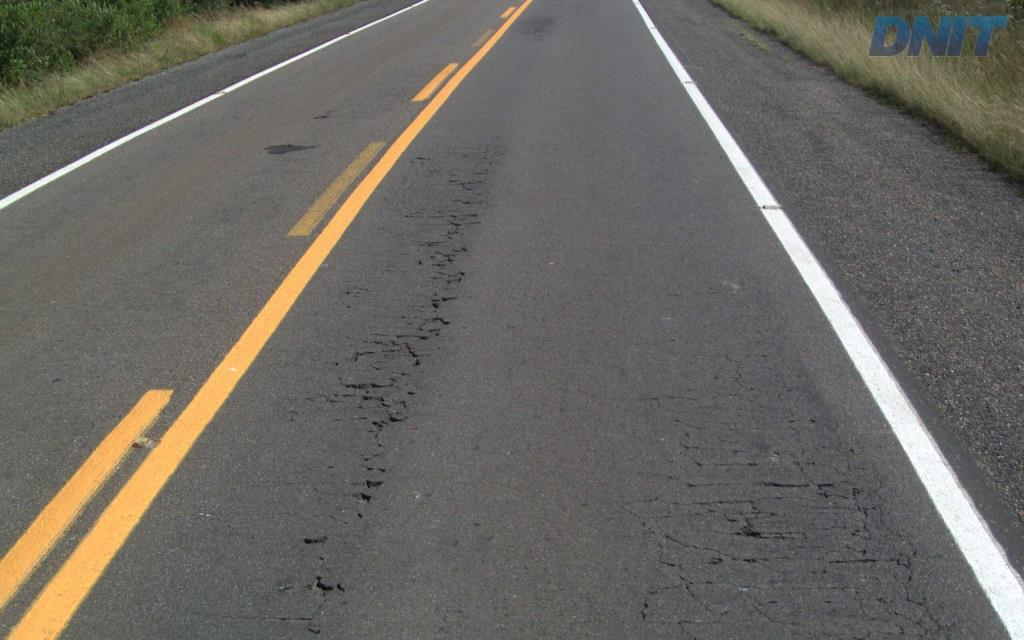crack: (884, 551, 956, 639), (691, 499, 796, 542), (337, 376, 408, 439)
